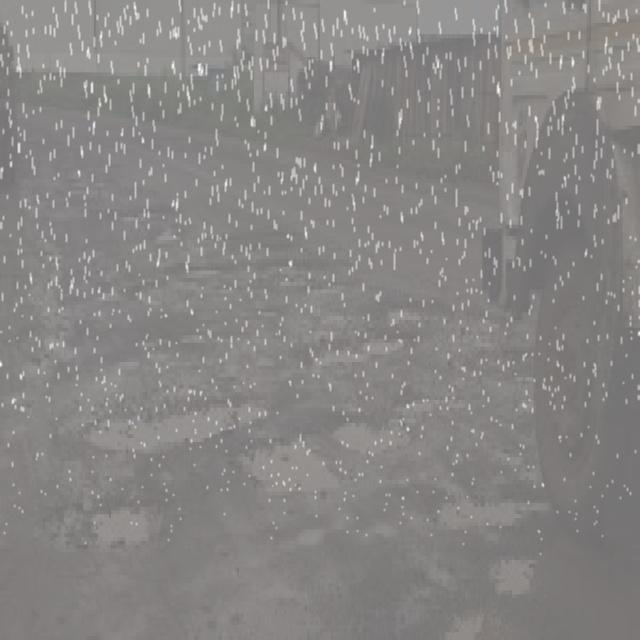Pothole: (90, 376, 270, 449), (242, 418, 366, 519), (418, 459, 580, 529), (306, 384, 432, 455), (318, 297, 433, 360), (163, 248, 338, 282), (496, 556, 580, 617), (84, 490, 170, 534)
